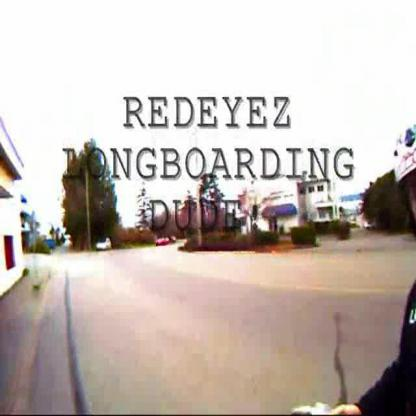other: (24, 241, 184, 284)
